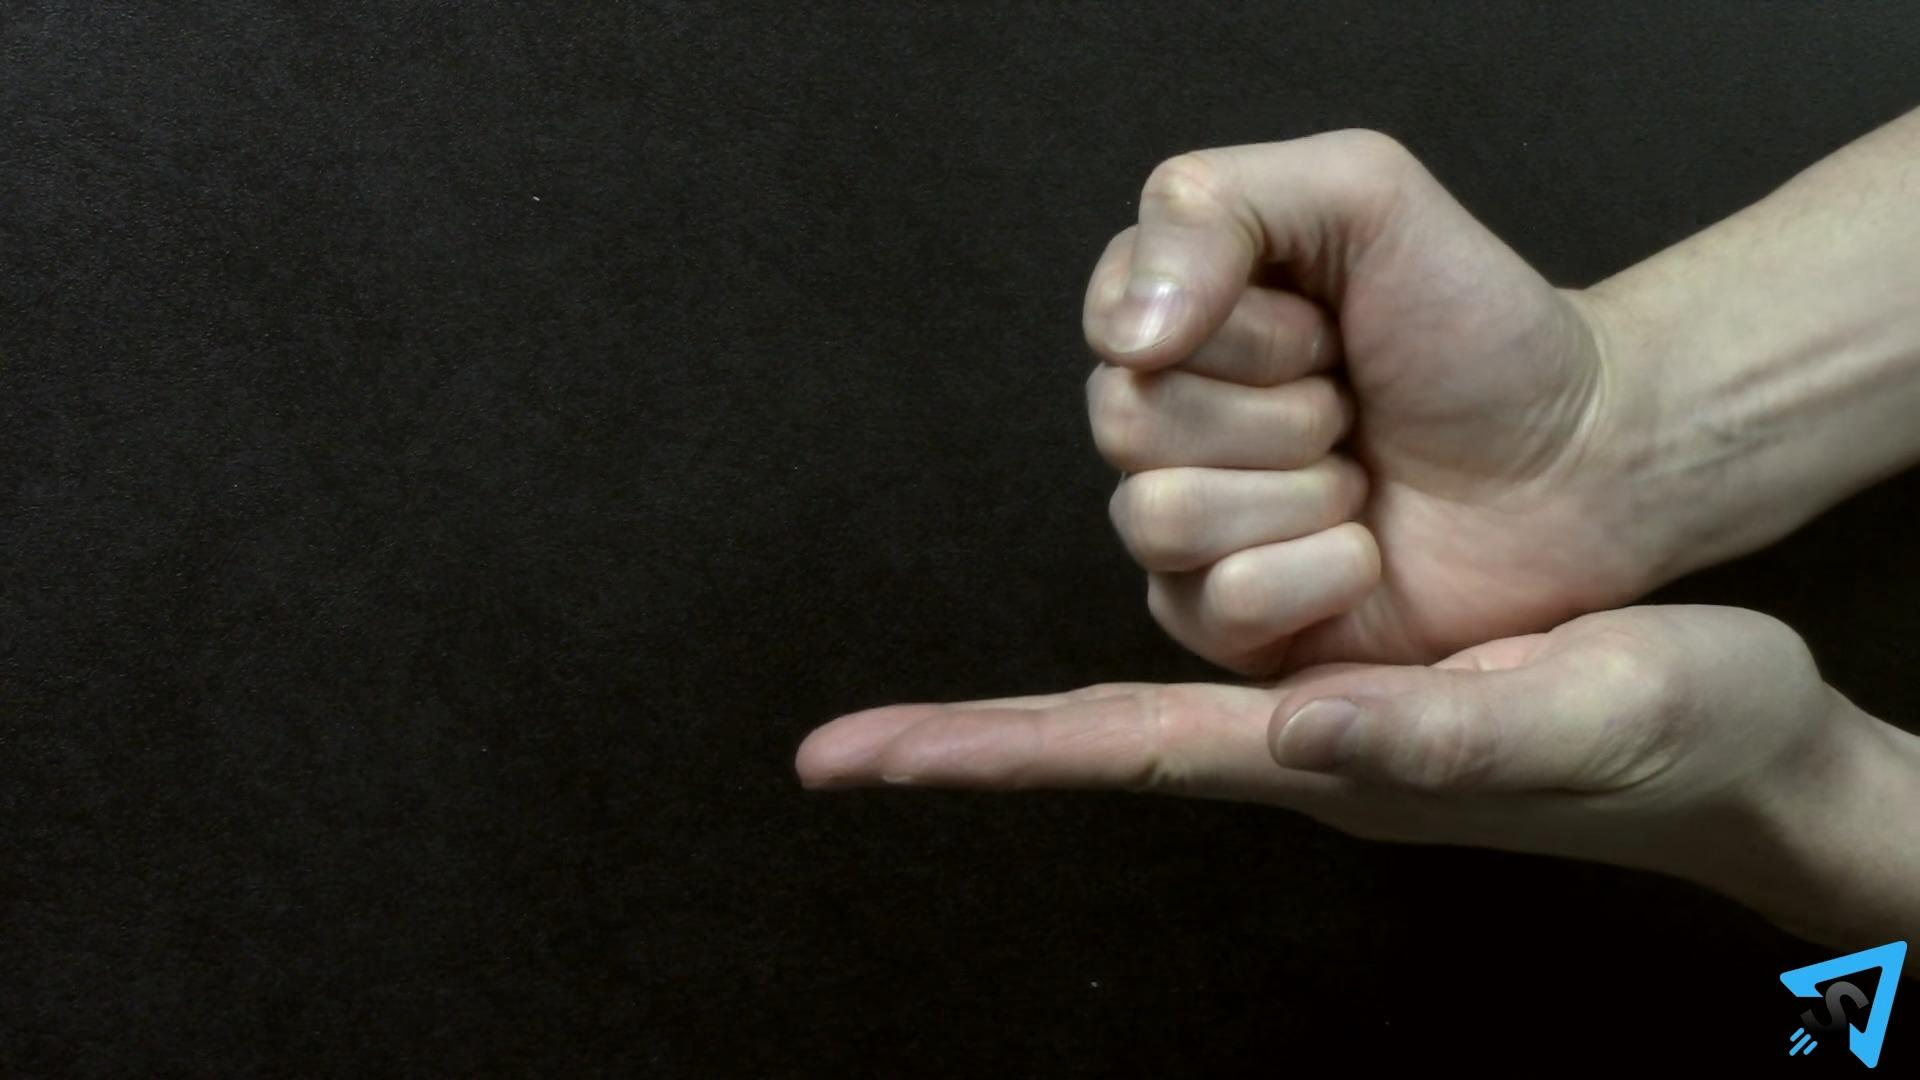Rock: (1083, 128, 1656, 676)
